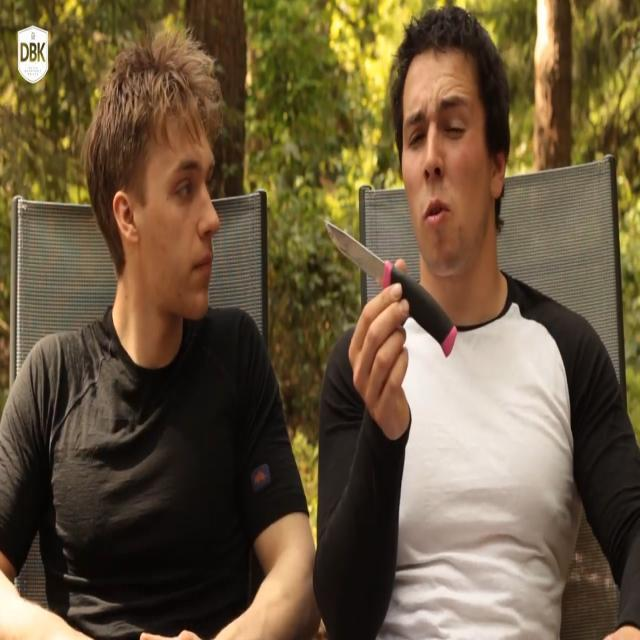faca: (316, 208, 464, 376)
